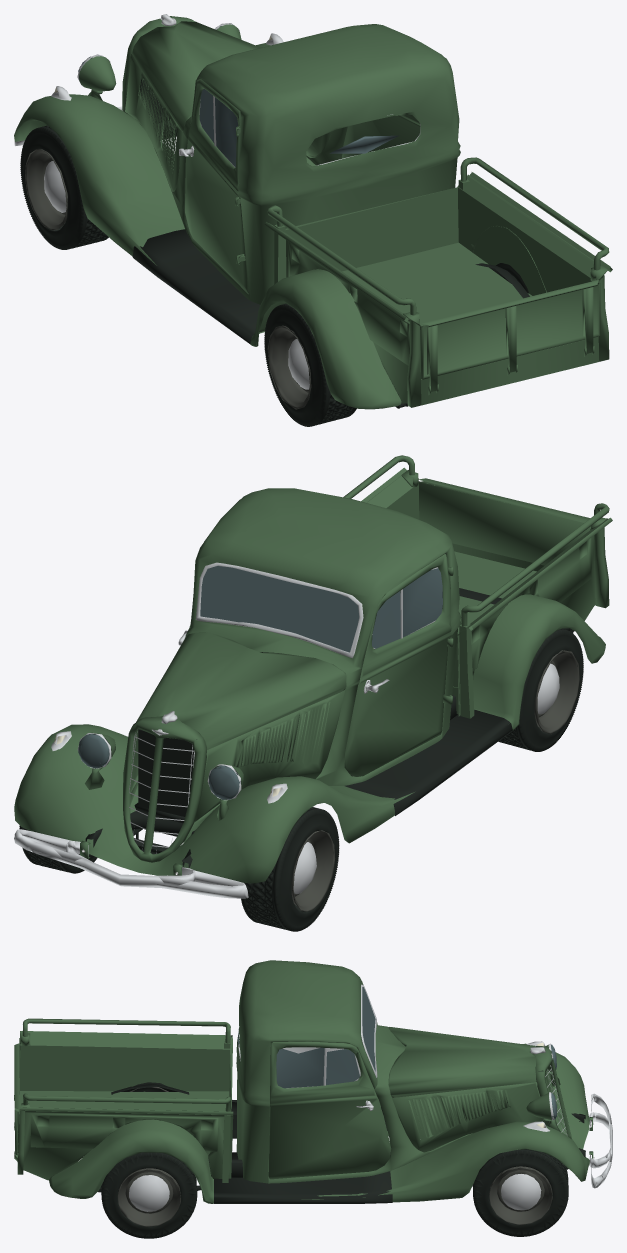
File: gaz.glb
The picture shows the model from 3 angles, top to bottom: view 1: azimuth 30°, elevation 25°; view 2: azimuth 150°, elevation 25°; view 3: azimuth 270°, elevation 25°; orthographic projection. The views are drawn at different scales.
Visible parts, largest first — view 1: web_gaz; view 2: web_gaz; view 3: web_gaz.
Boxes of the visible parts, bbox=[...] form: web_gaz: bbox=[14, 14, 612, 426]; web_gaz: bbox=[14, 455, 612, 931]; web_gaz: bbox=[14, 960, 612, 1238].
Bounding box in the file's own units: 1.85 × 1.76 × 4.67.
